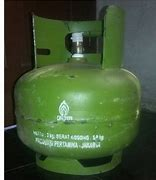gas_ijo: (14, 5, 141, 174)
